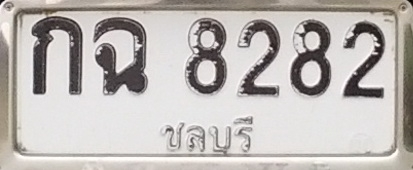txt01: (29, 14, 86, 96)
txt07: (91, 15, 150, 97)
